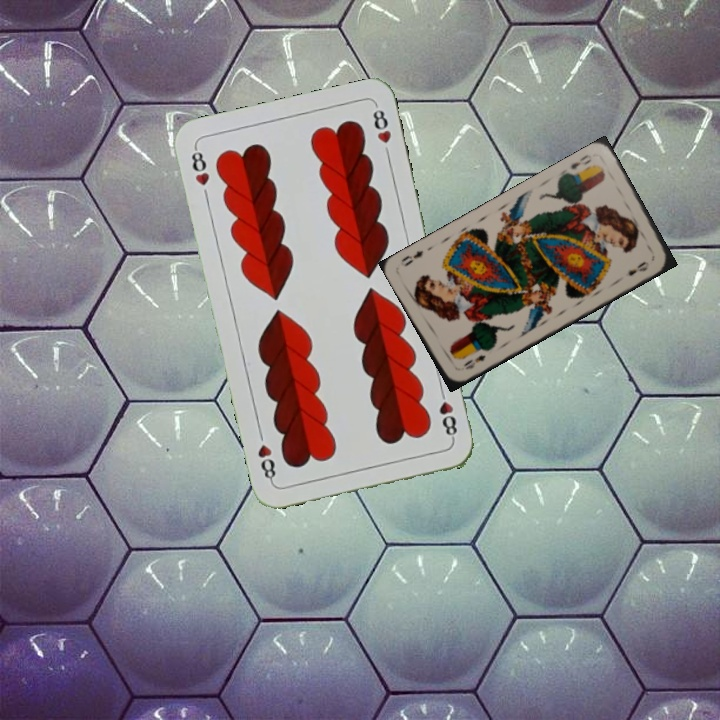EO: (566, 150, 594, 172), (459, 351, 488, 372)
H8: (435, 384, 460, 443), (187, 143, 212, 188)
